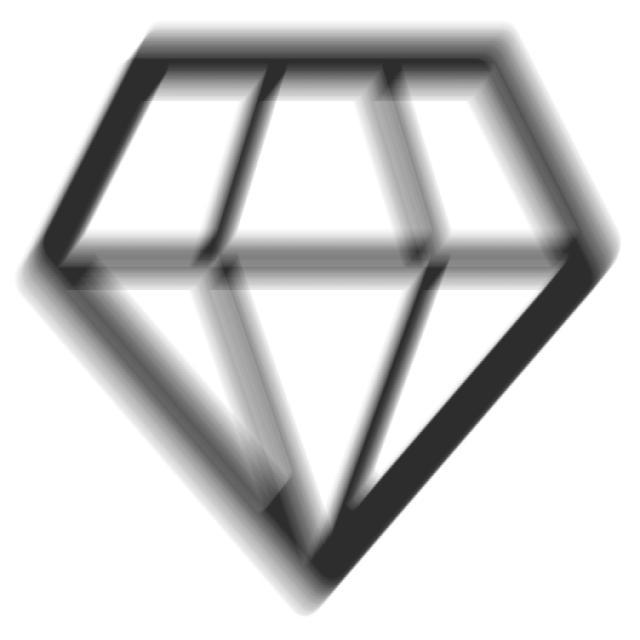diamond: (7, 22, 628, 627)
